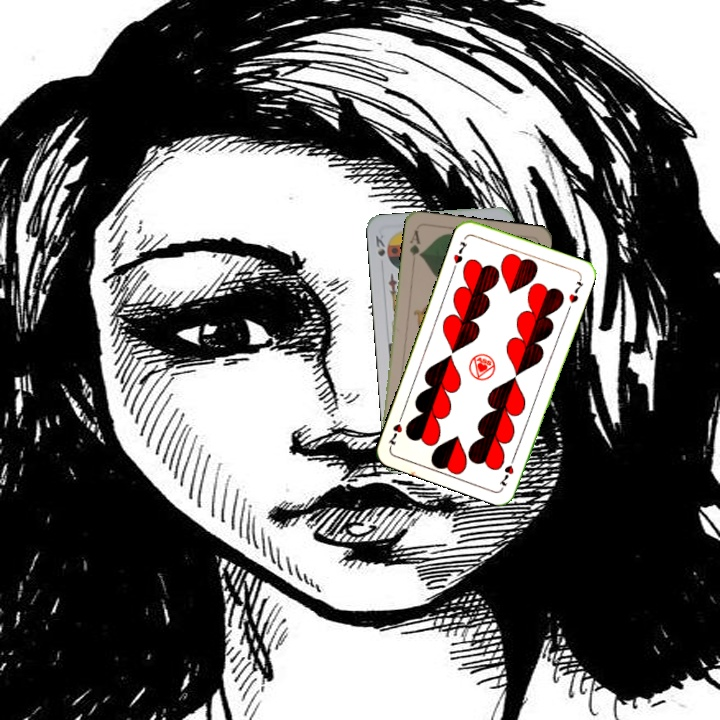GA: (406, 226, 424, 259)
H7: (496, 451, 518, 489), (449, 237, 470, 266)
SK: (372, 231, 387, 259)
